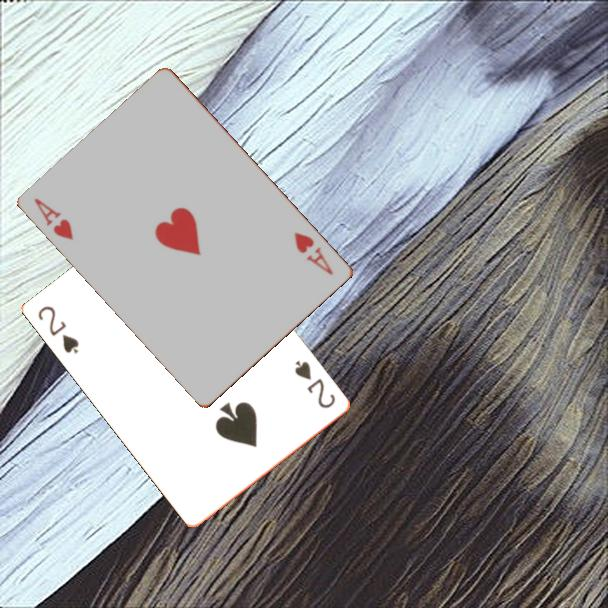h01: (291, 228, 337, 278), (31, 194, 77, 244)
s02: (291, 357, 339, 412), (35, 302, 82, 357)
